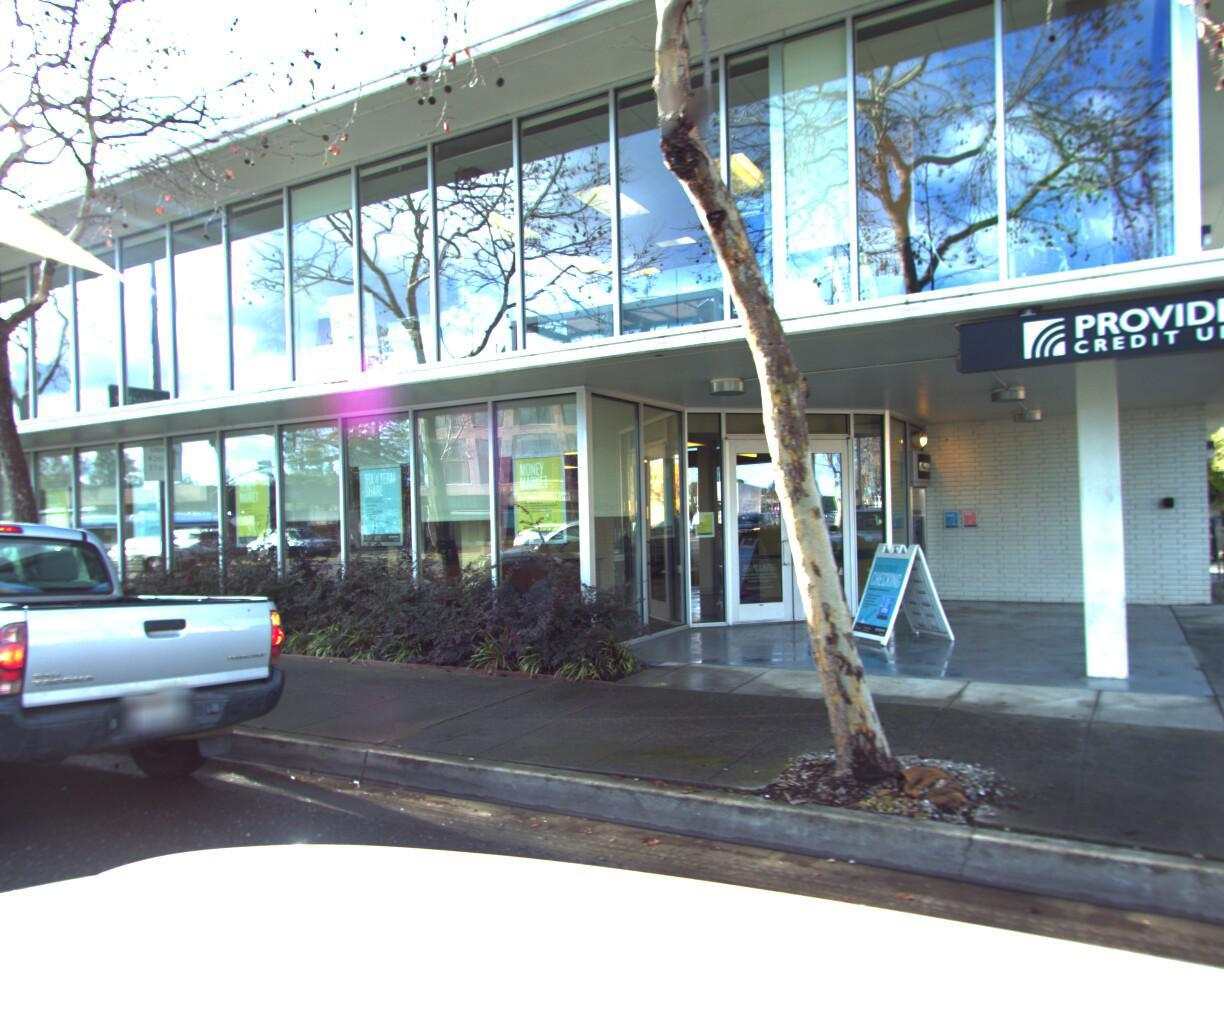car: (0, 503, 327, 918)
